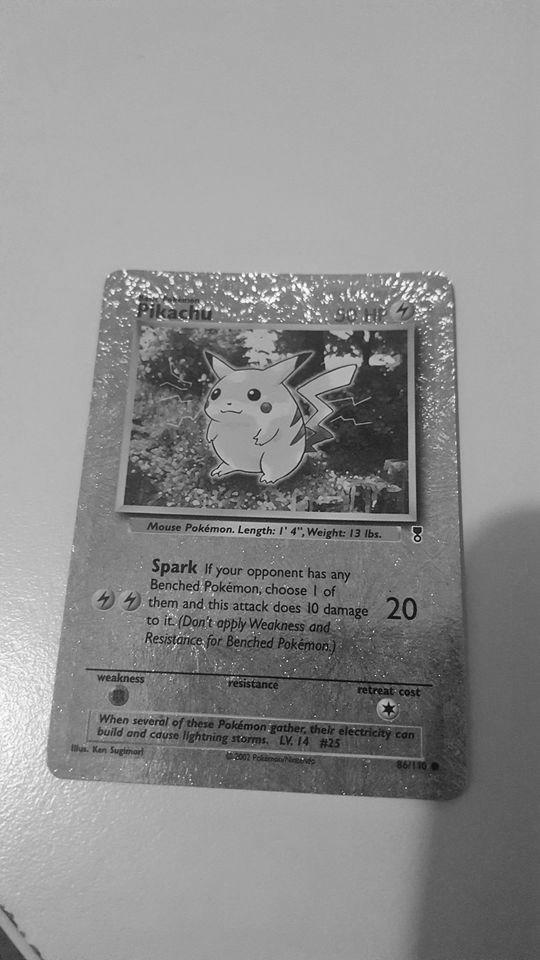card: (44, 269, 467, 801)
